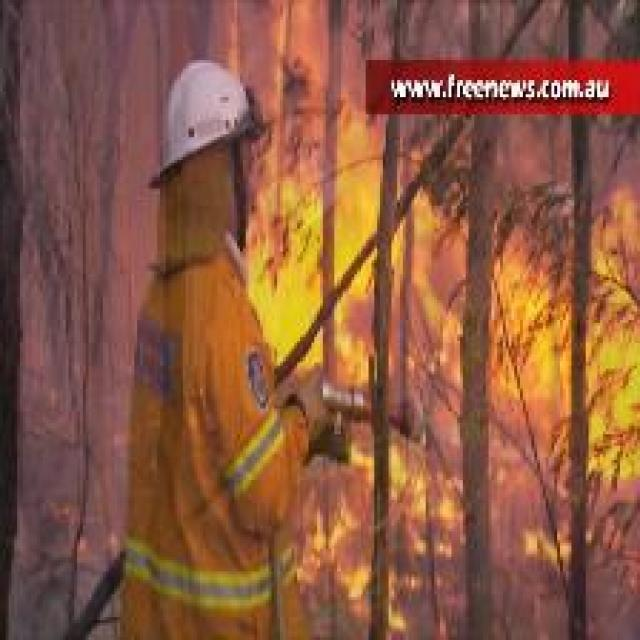Fire: (247, 110, 453, 390), (485, 183, 640, 480), (283, 442, 463, 638)
